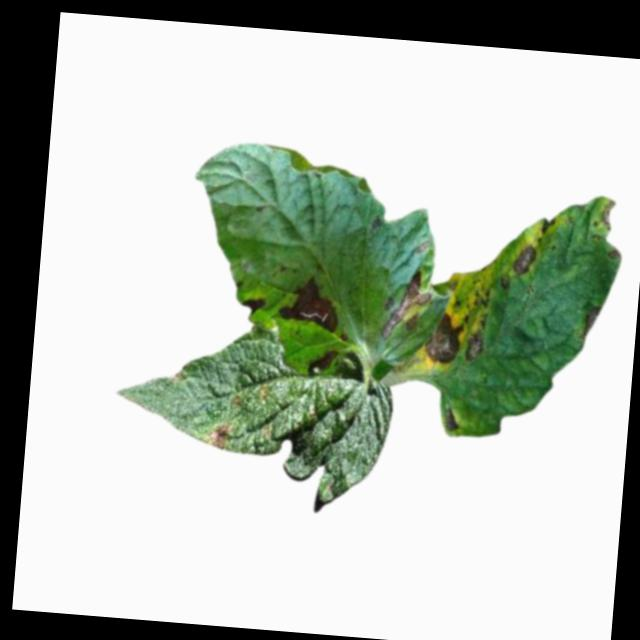Early_blight: (380, 272, 432, 345), (279, 277, 343, 333), (425, 308, 467, 368), (464, 326, 489, 366), (512, 243, 539, 278), (307, 348, 339, 377), (205, 418, 232, 451), (579, 305, 602, 339), (599, 200, 618, 238), (442, 407, 464, 435), (240, 296, 264, 319), (540, 219, 558, 238)
